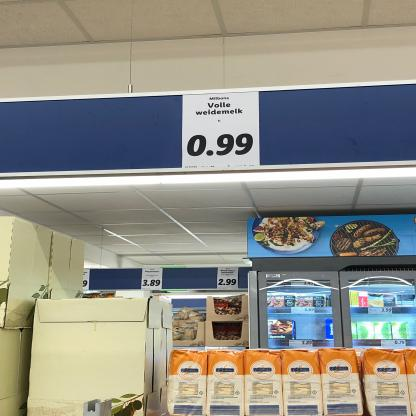prtg: (183, 92, 261, 169), (218, 268, 240, 290), (142, 269, 164, 290), (84, 270, 91, 291)
